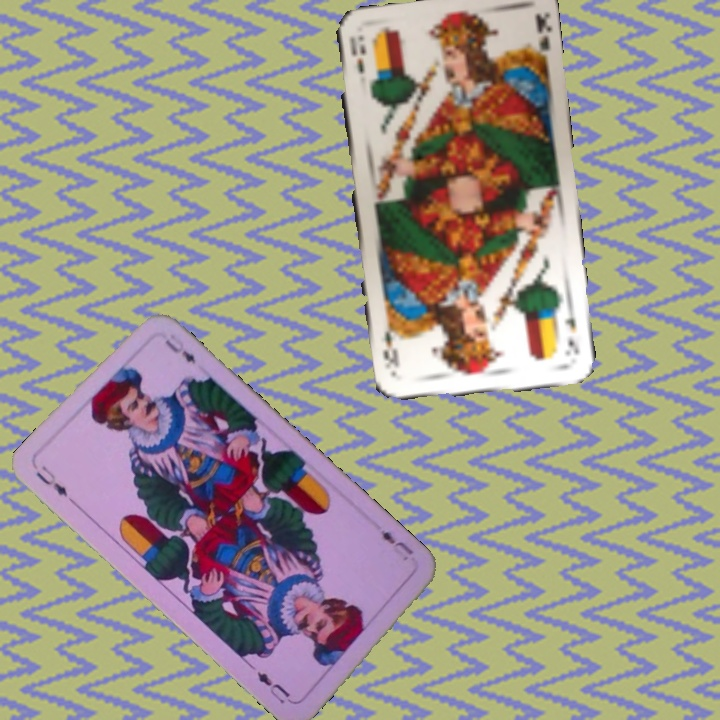EK: (560, 301, 582, 358), (346, 31, 368, 77)
EU: (31, 461, 80, 508), (376, 525, 417, 558)
